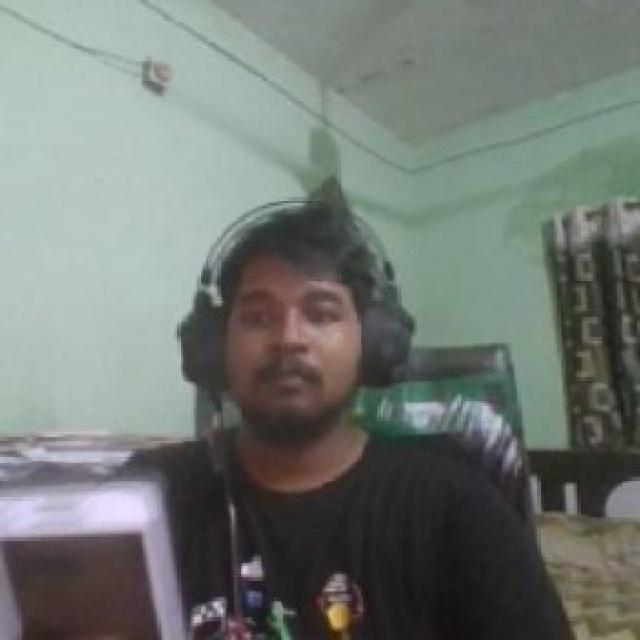Phone: (0, 479, 183, 640)
